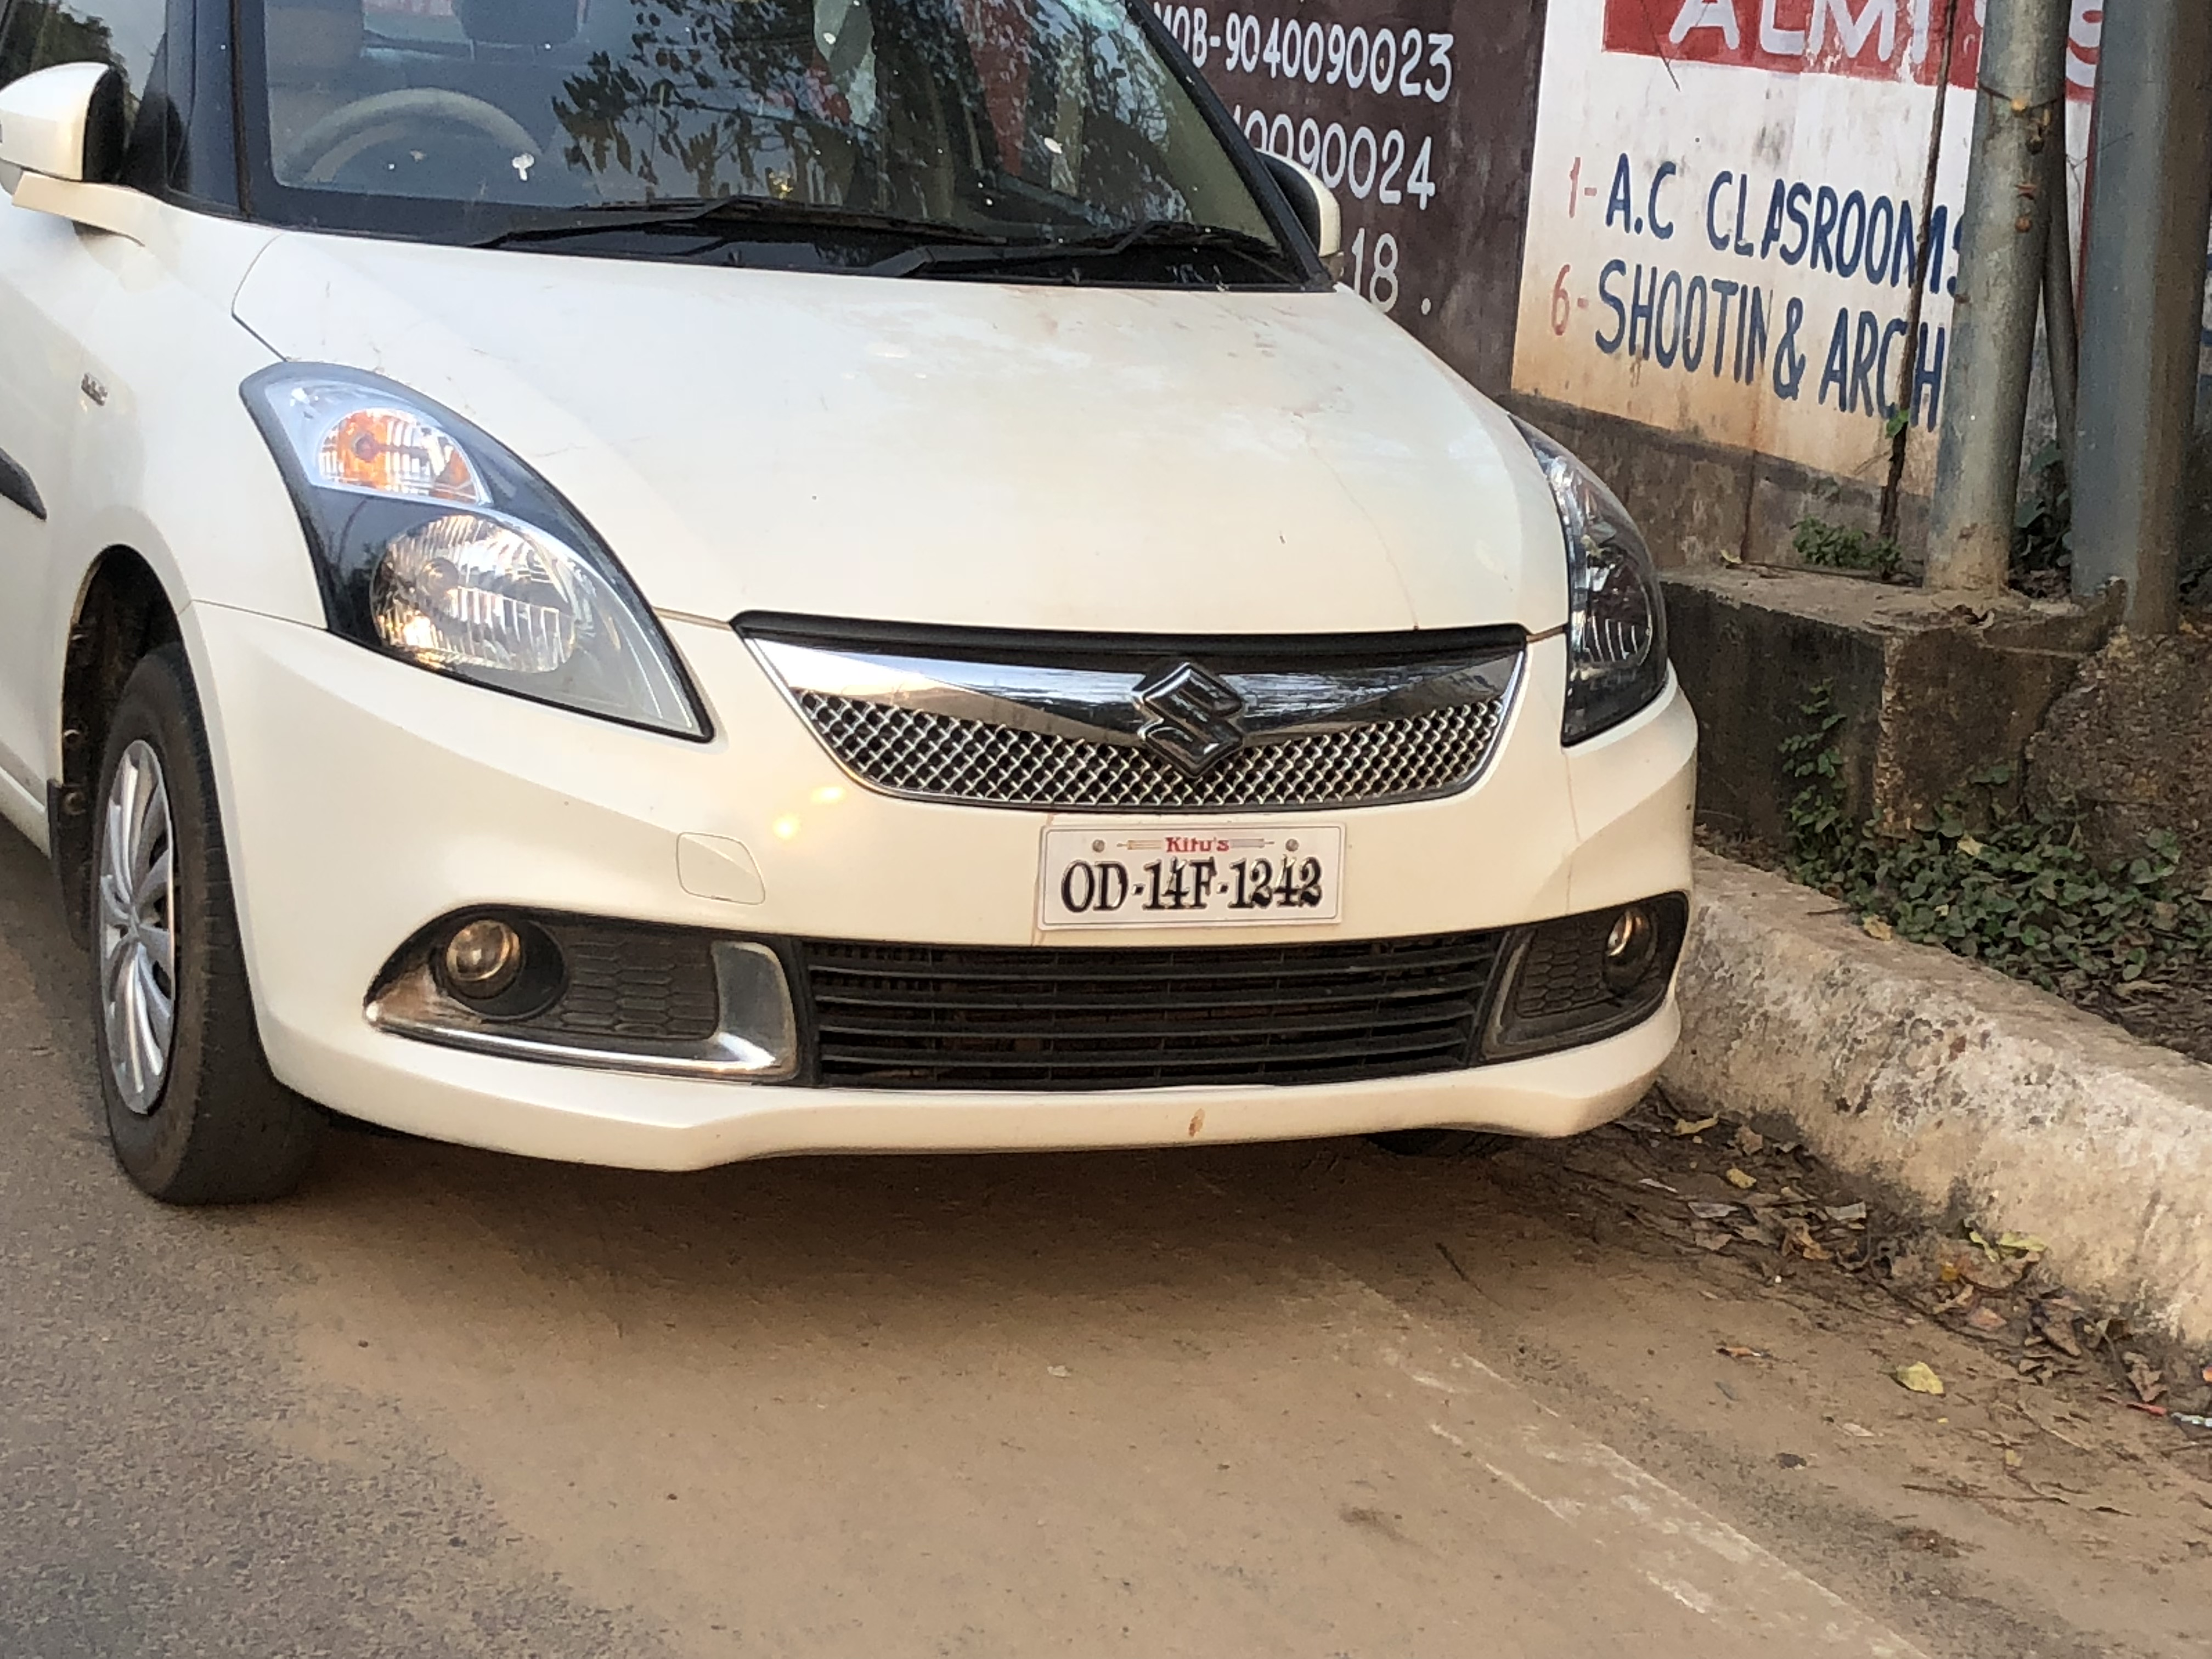licenseplate: (1020, 810, 1339, 924)
